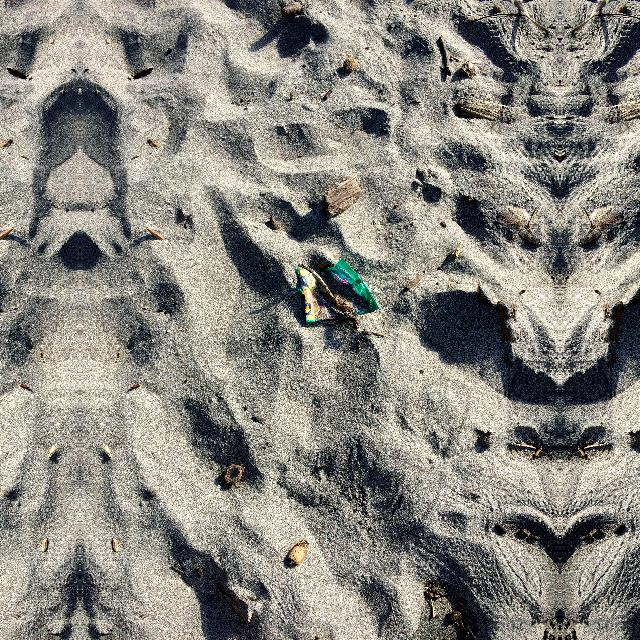Plastic: (292, 254, 383, 326)
